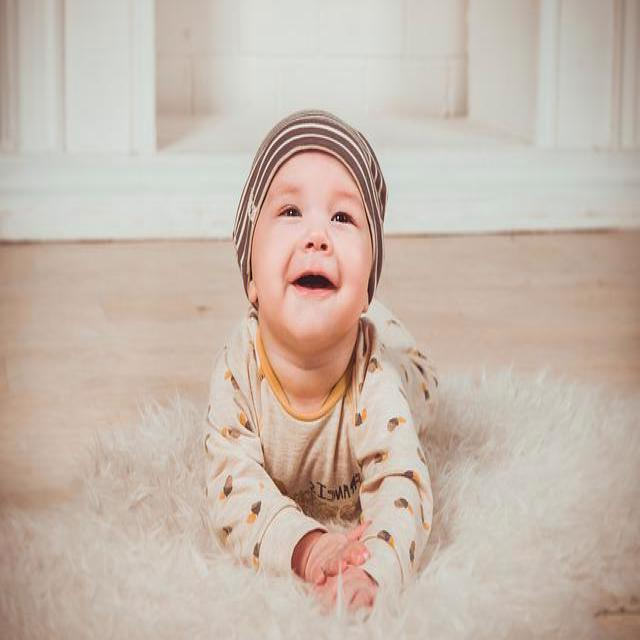child: (204, 107, 441, 618)
